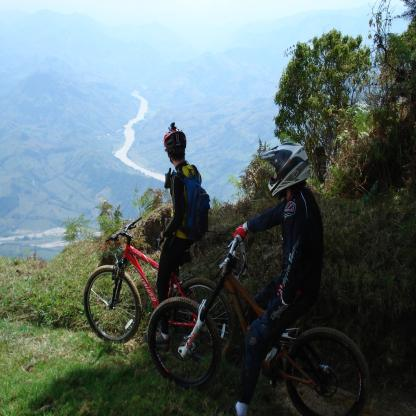Helmet: (252, 144, 314, 201), (161, 122, 190, 165)
